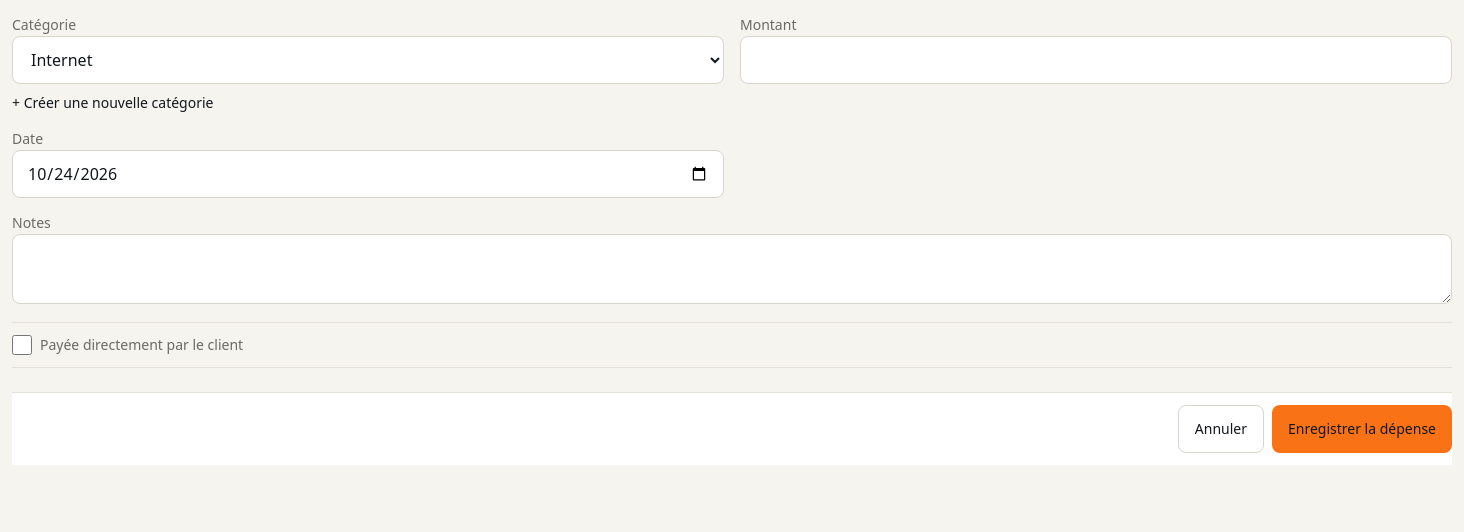
Test: ExpenseForm › loads only general categories from the API (never trip system ones) and can create a new one inline
The image size is (1464, 532).
Click the button with test id "create-expense-category-toggle". click: coordinates (113, 103)
box: [12,93,214,113]
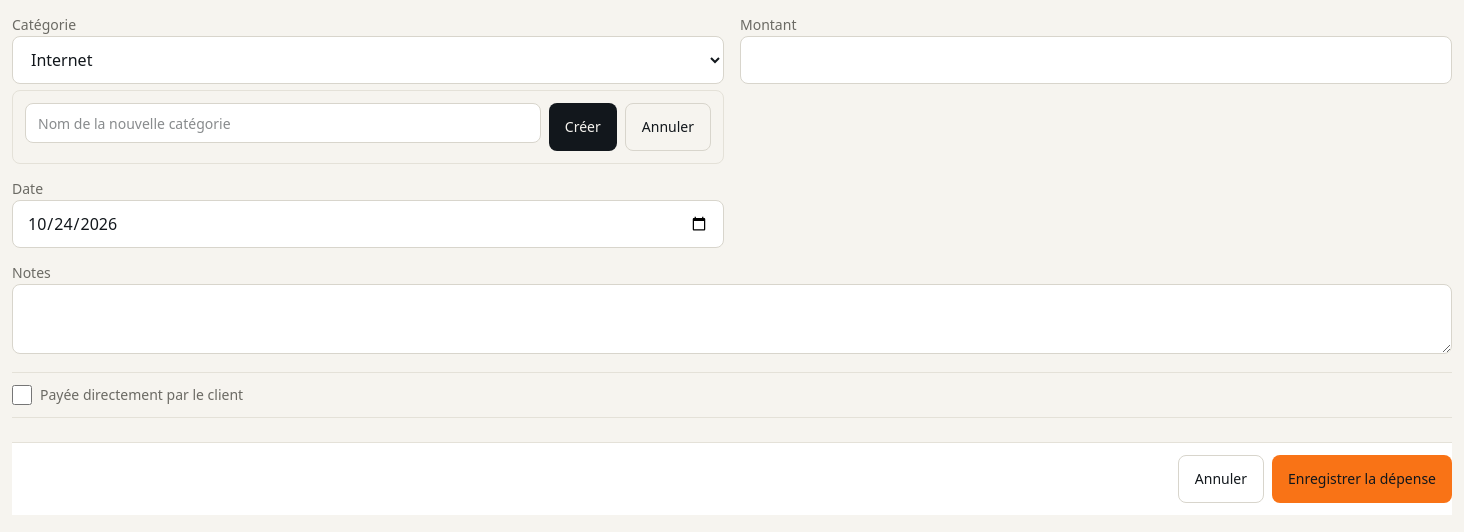
Type "Frais WiFi" into the field with id "new_expense_category_name". click: coordinates (283, 123)
box: [25,103,541,143]
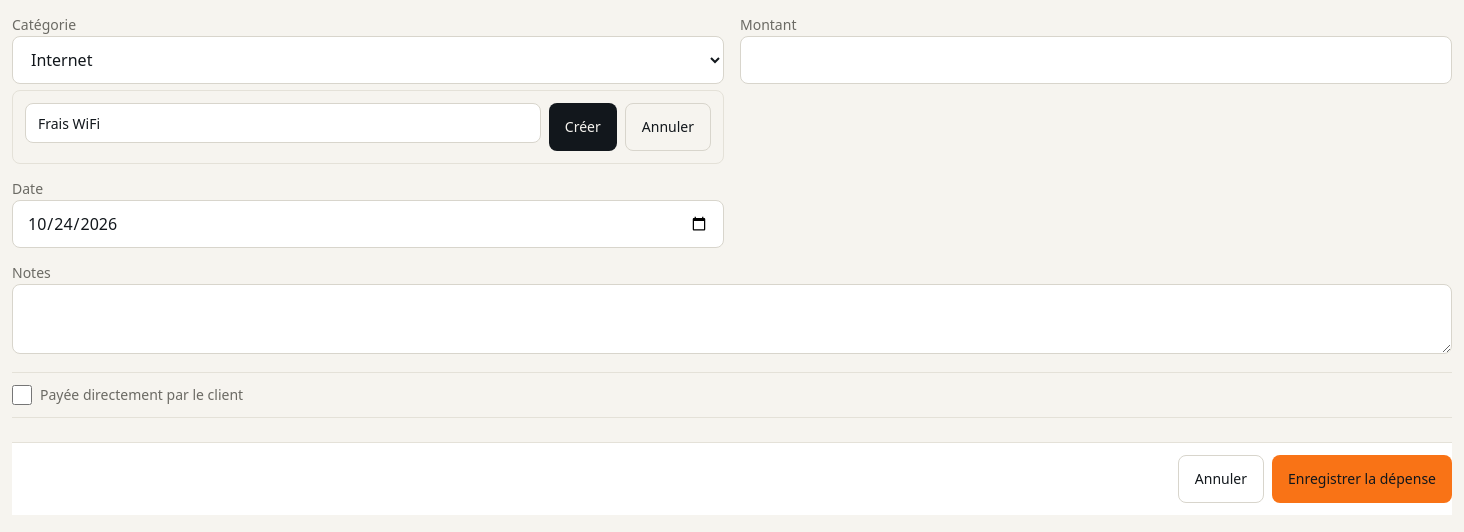
Click the button with test id "create-expense-category-submit". click: coordinates (583, 127)
box: [549,103,617,151]
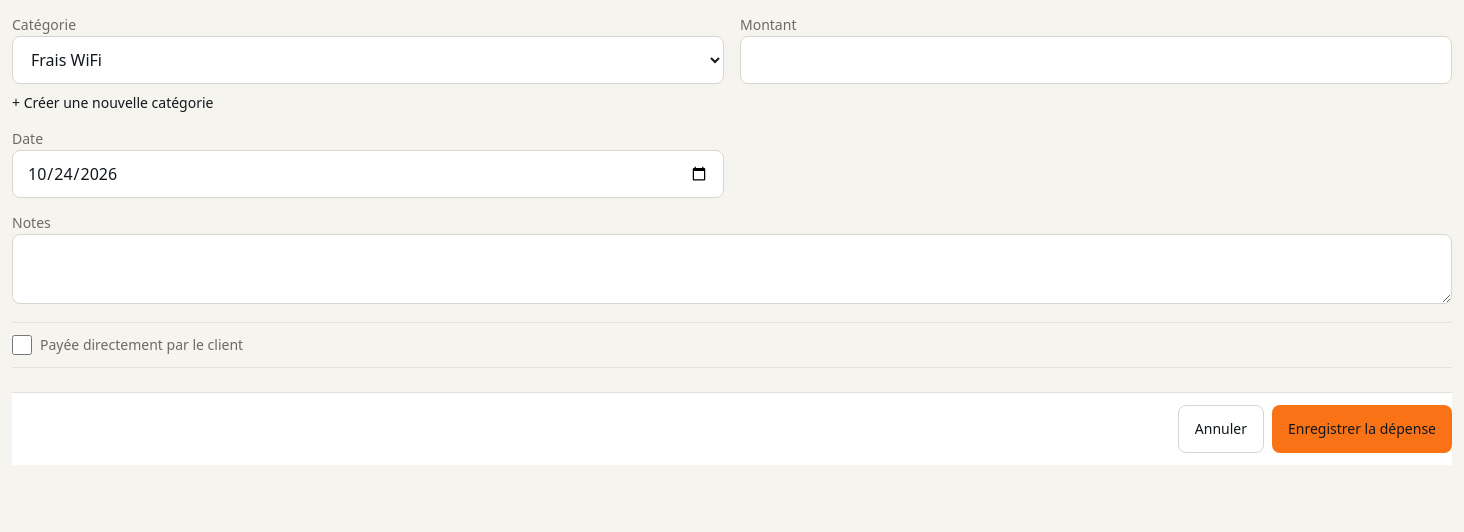
Check: the dropdown with id "category" shows "Frais WiFi", box [12,36,724,84]
